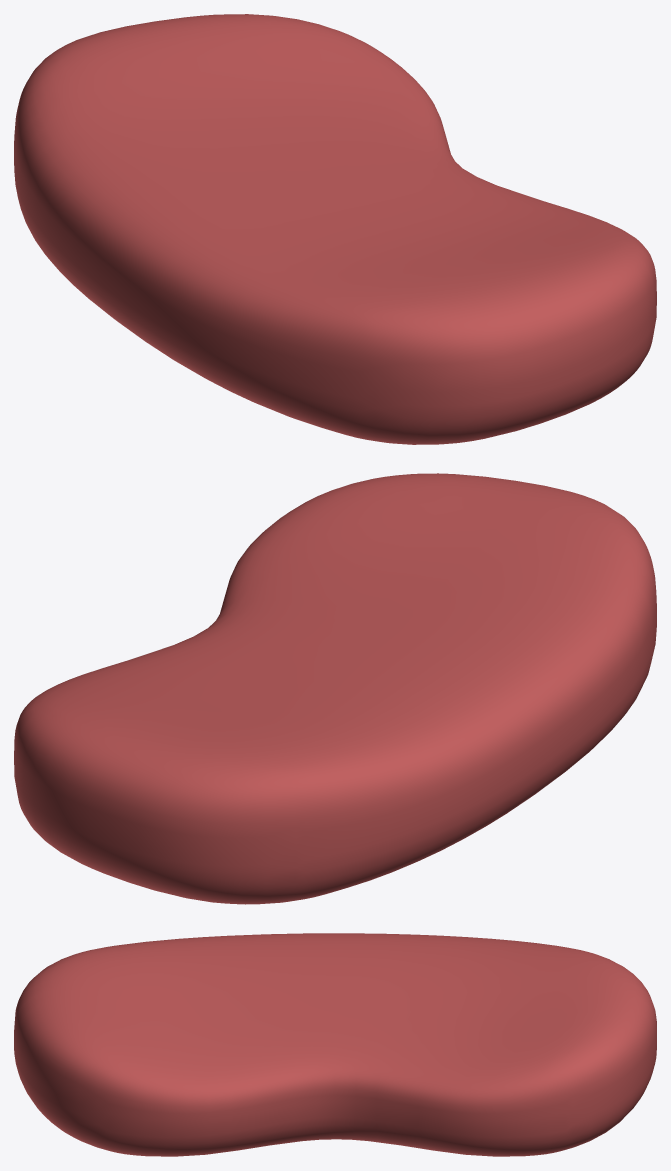
The model's file is 306_箸置き.glb.
3 views of the same model, one above another, from view 1: azimuth 30°, elevation 25°; view 2: azimuth 150°, elevation 25°; view 3: azimuth 270°, elevation 25° (orthographic). The views are drawn at different scales.
Visible parts, largest first — view 1: Body; view 2: Body; view 3: Body.
Boxes of the visible parts, x1,y1,x2,y2 form: Body: [14, 14, 656, 444]; Body: [14, 473, 656, 904]; Body: [14, 933, 656, 1156].
Bounding box in the file's own units: 0.0282 × 0.00949 × 0.0493.
